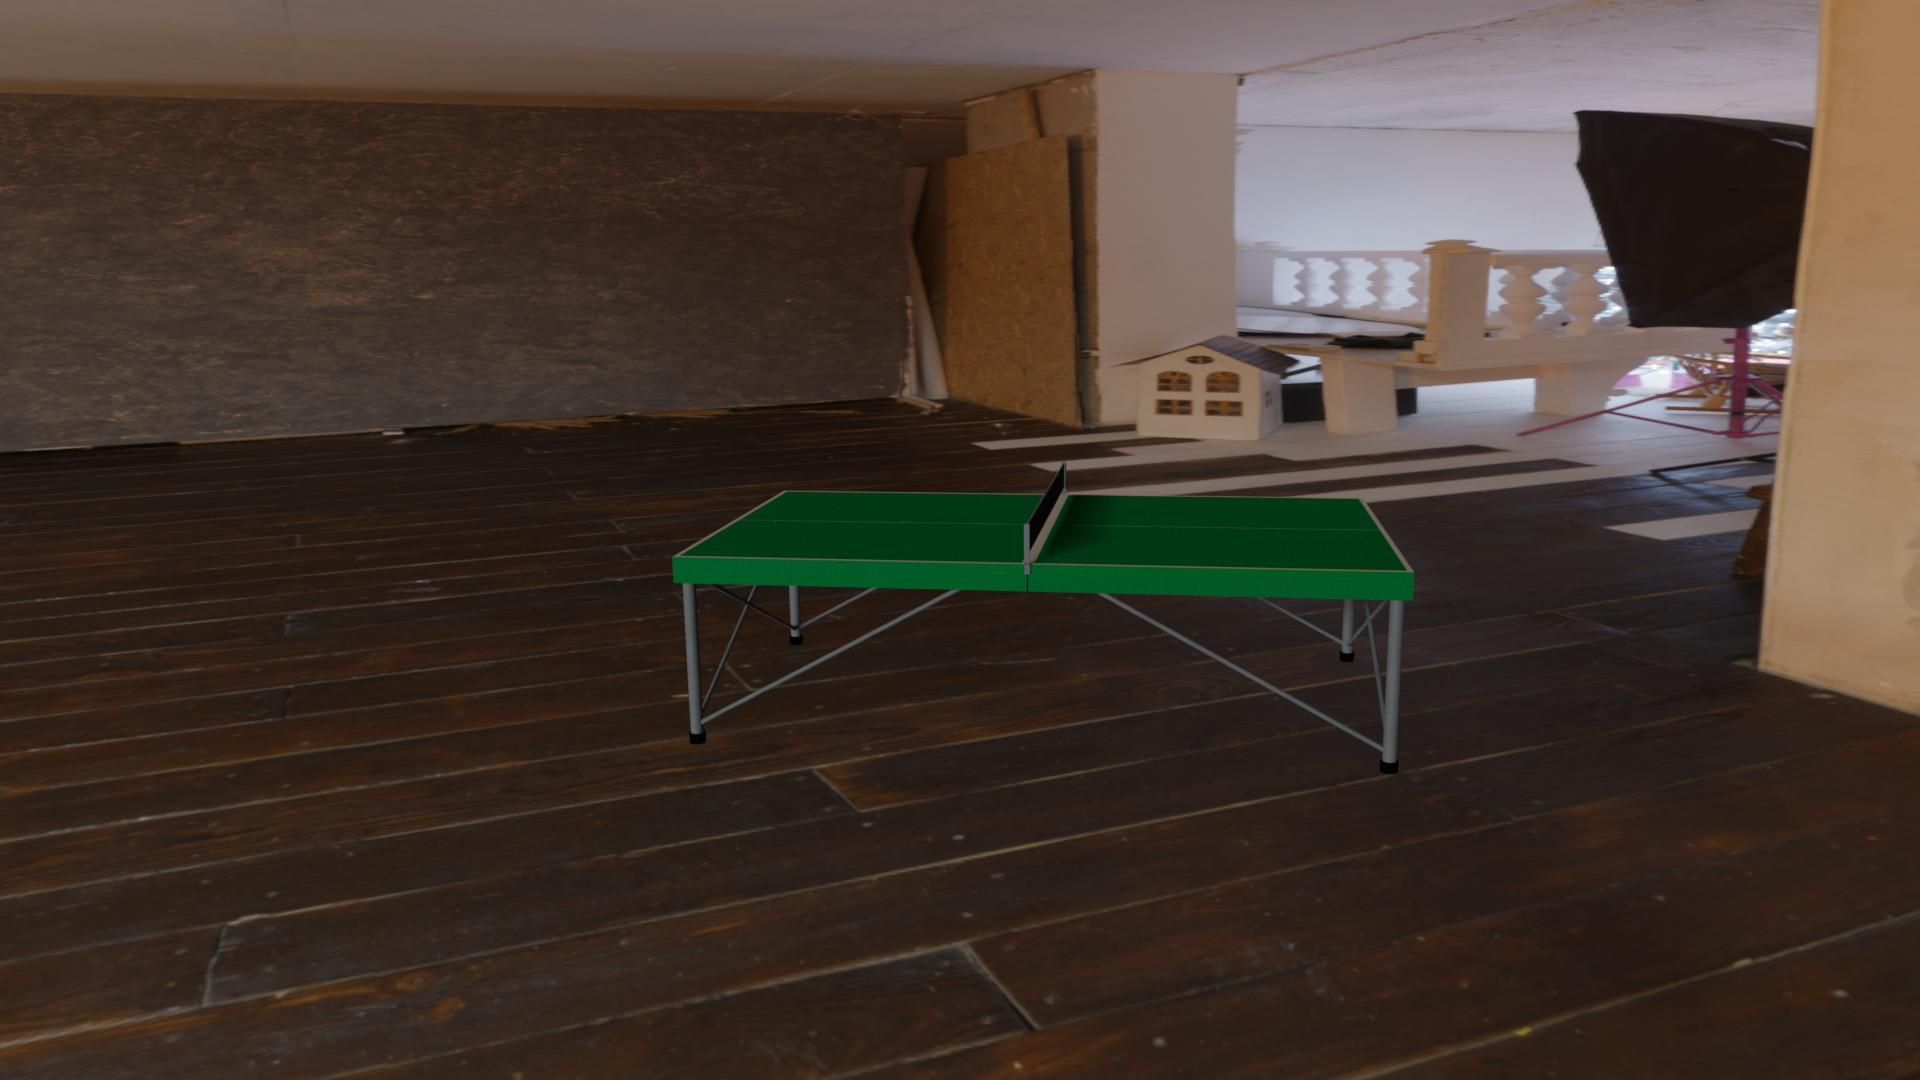table: (679, 492, 1407, 571)
